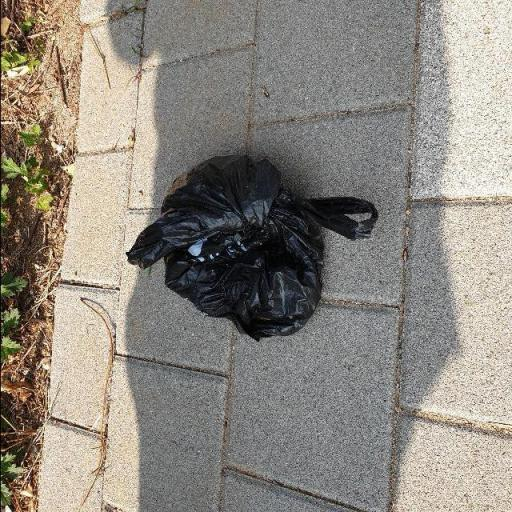plastic-bag: (123, 152, 382, 343)
